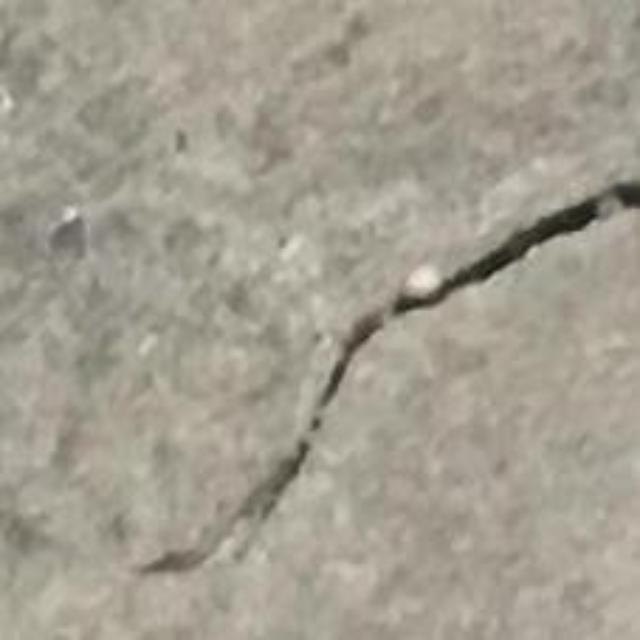crack: (229, 178, 639, 532)
